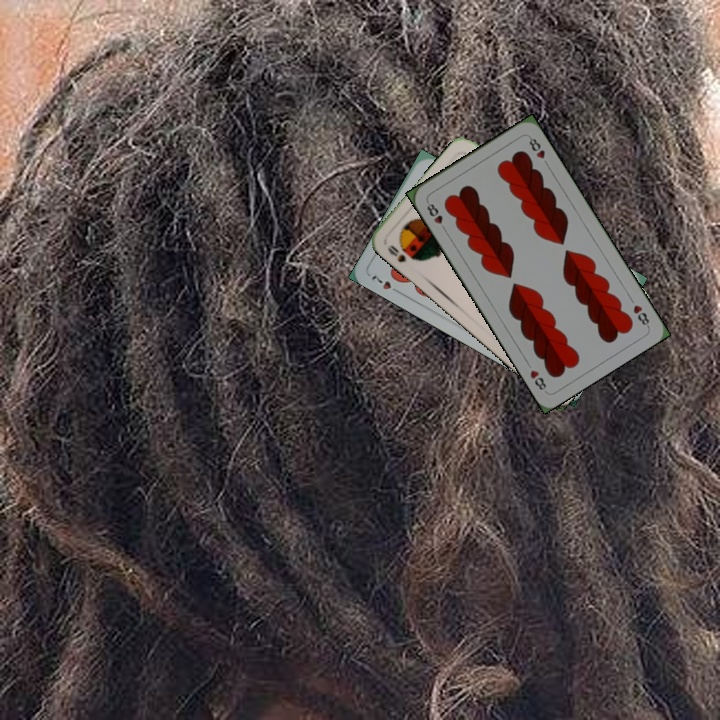H7: (367, 271, 403, 296)
H8: (423, 197, 449, 234), (629, 301, 652, 330)
SO: (383, 240, 409, 265)
